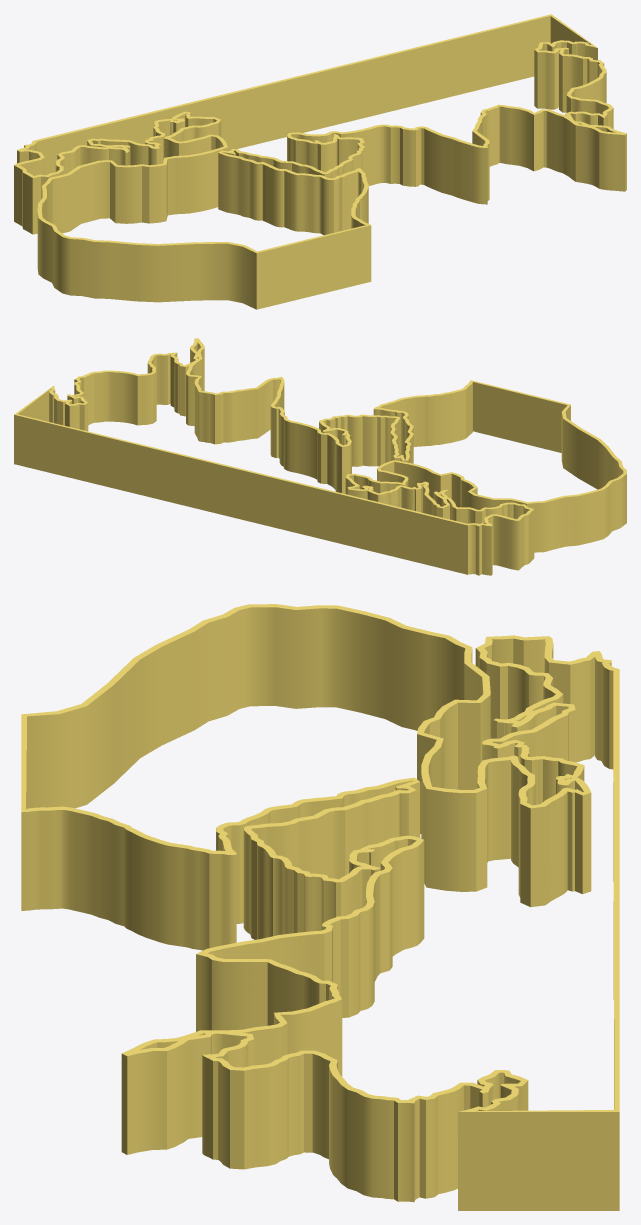
Rendered from MapBoundary.fbx.
The picture shows the model from 3 angles, top to bottom: view 1: azimuth 30°, elevation 25°; view 2: azimuth 150°, elevation 25°; view 3: azimuth 270°, elevation 25°; orthographic projection. The views are drawn at different scales.
Parts seen in each view (by area): view 1: Map_Boundary; view 2: Map_Boundary; view 3: Map_Boundary.
Part boxes in pixels (left/top/right/bottom): Map_Boundary: left=14, top=14, right=626, bottom=309; Map_Boundary: left=14, top=338, right=626, bottom=575; Map_Boundary: left=21, top=604, right=619, bottom=1210.
Size of the model in its own units: 494 by 44.83 by 246.
